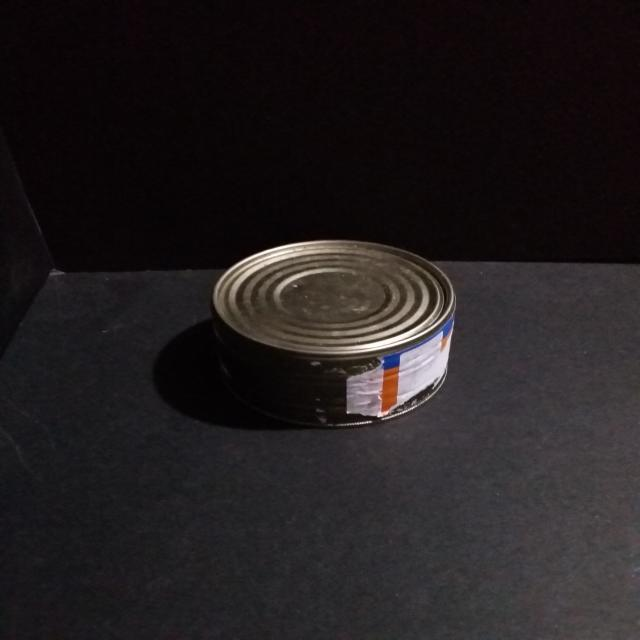metal-can: (210, 233, 458, 432)
